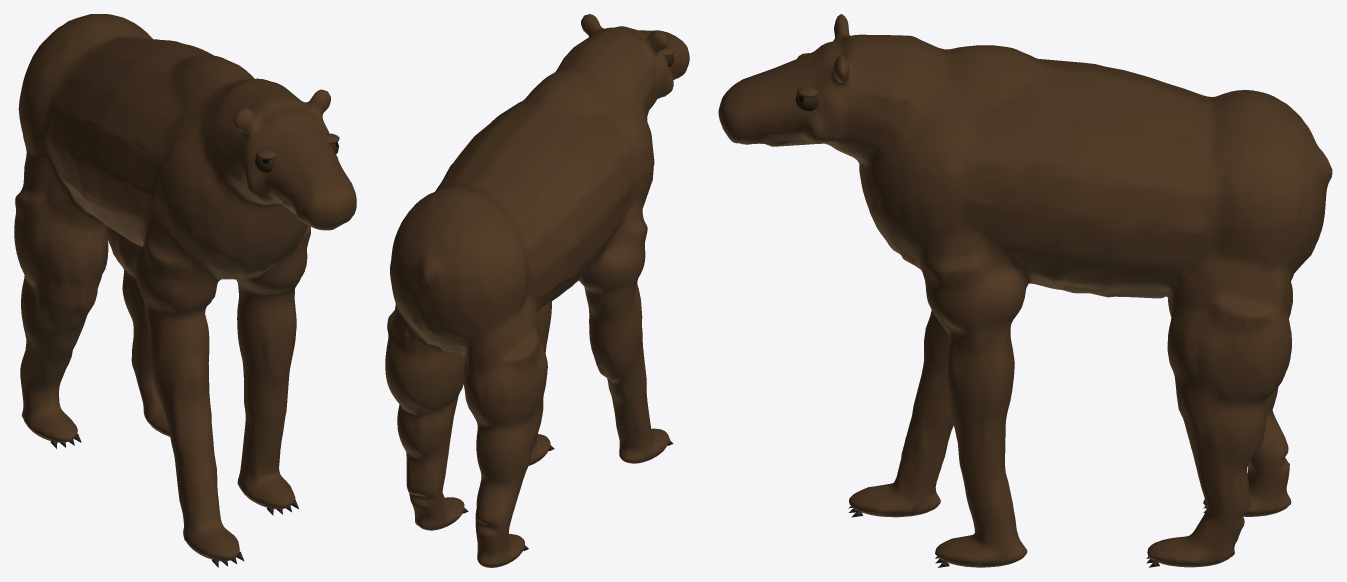
The model's file is ArctodusSimus.fbx.
3 views of the same model, side by side, from view 1: azimuth 30°, elevation 25°; view 2: azimuth 150°, elevation 25°; view 3: azimuth 270°, elevation 25° (orthographic). The views are drawn at different scales.
Visible parts, largest first — view 1: ArctodusSimus; view 2: ArctodusSimus; view 3: ArctodusSimus.
Part boxes in pixels (left/top/right/bottom): ArctodusSimus: left=14, top=14, right=356, bottom=567; ArctodusSimus: left=385, top=14, right=689, bottom=567; ArctodusSimus: left=718, top=14, right=1332, bottom=567.
Size of the model in its own units: 0.5162 by 1.39 by 1.53.
